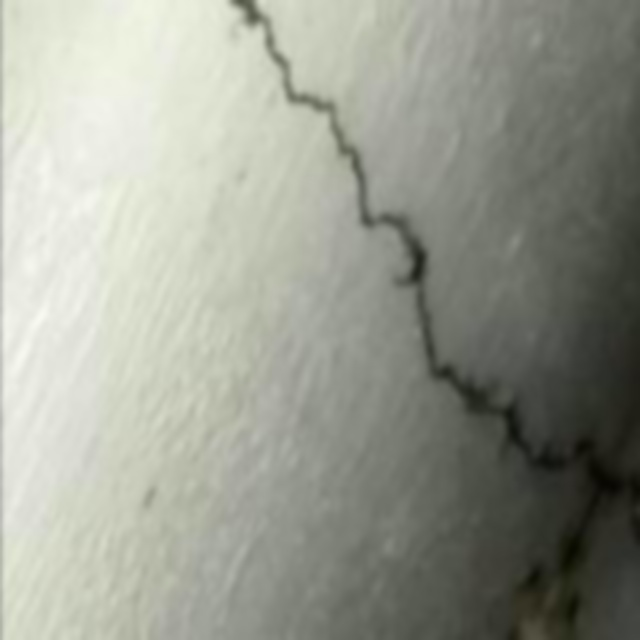SurfaceCrack: (204, 0, 640, 554)
